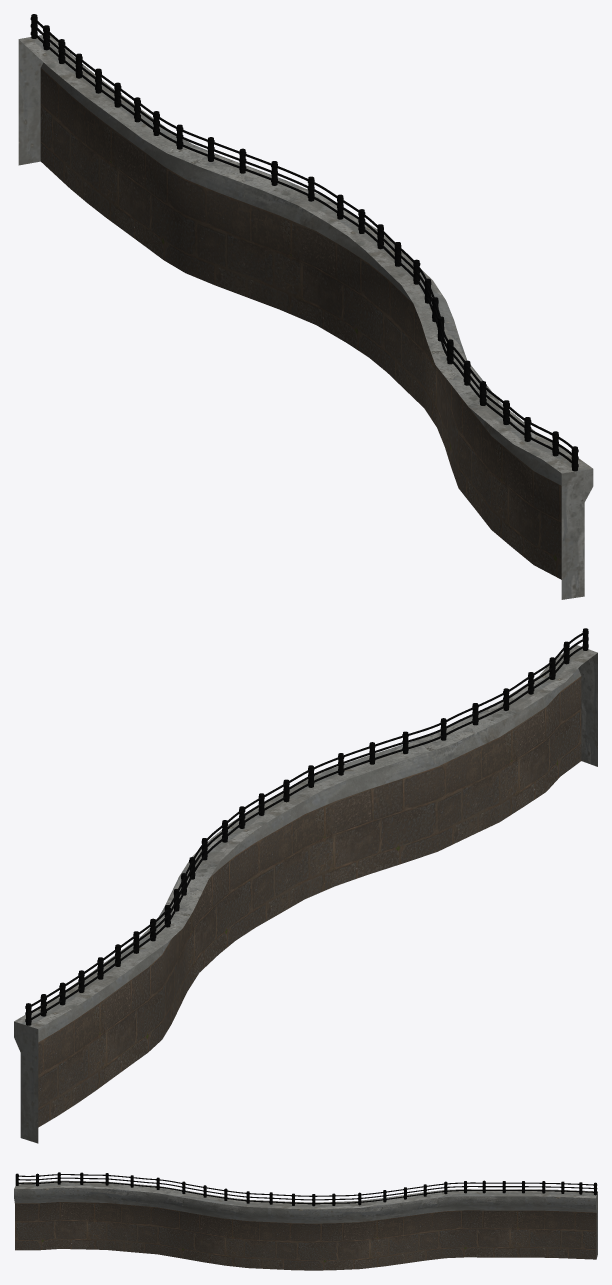
Rendered from sea_gated.fbx.
The picture shows the model from 3 angles, top to bottom: view 1: azimuth 30°, elevation 25°; view 2: azimuth 150°, elevation 25°; view 3: azimuth 270°, elevation 25°; orthographic projection. The views are drawn at different scales.
Parts seen in each view (by area): view 1: pCylinder104; view 2: pCylinder104; view 3: pCylinder104.
Part boxes in pixels (box(x1,y1,x2,y2)): pCylinder104: box(18, 14, 593, 599); pCylinder104: box(14, 628, 597, 1143); pCylinder104: box(14, 1172, 597, 1270).
Size of the model in its own units: 5.83 by 7.02 by 49.94.
